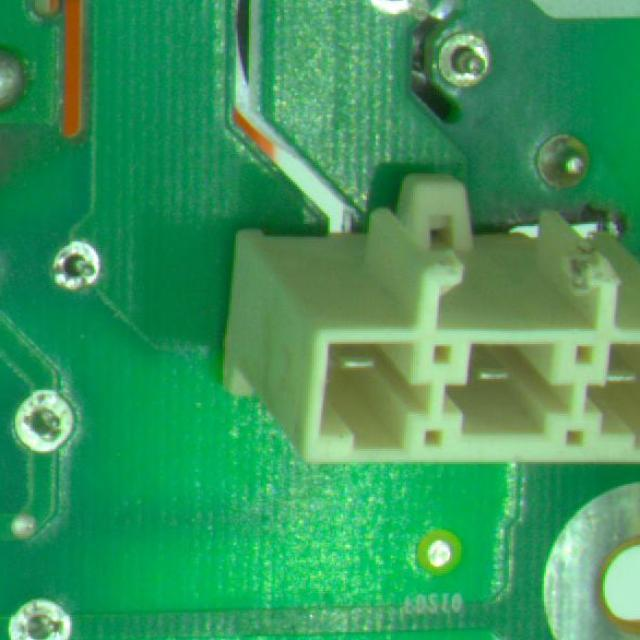Insufficient solder: (11, 388, 80, 456), (429, 34, 496, 95), (46, 237, 104, 297), (5, 593, 76, 640)
